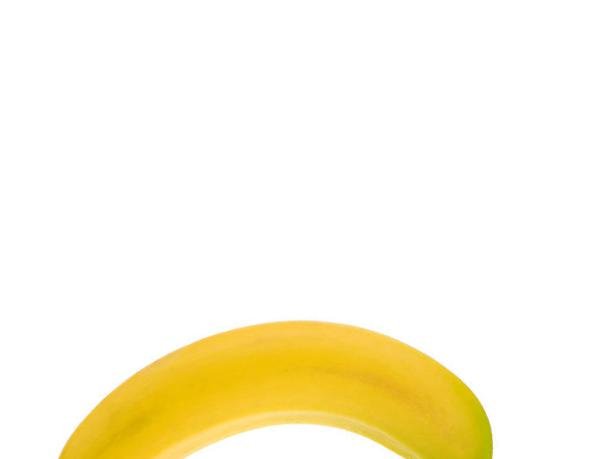banana: (54, 319, 498, 458)
